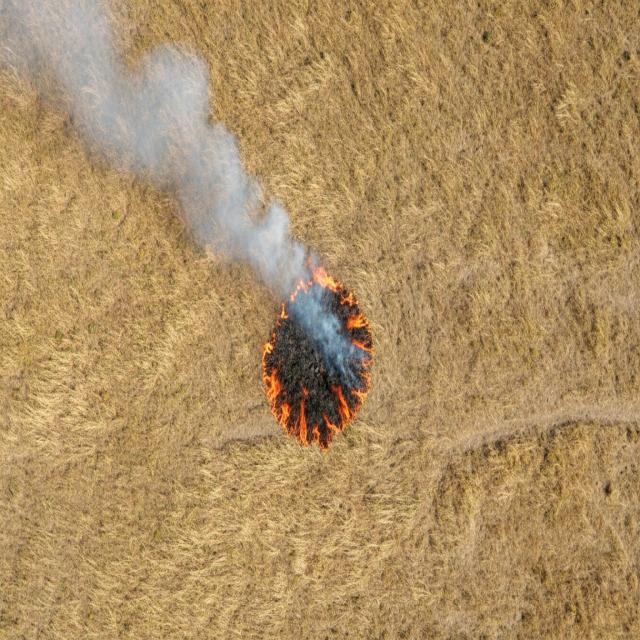wildfire: (240, 206, 376, 462)
